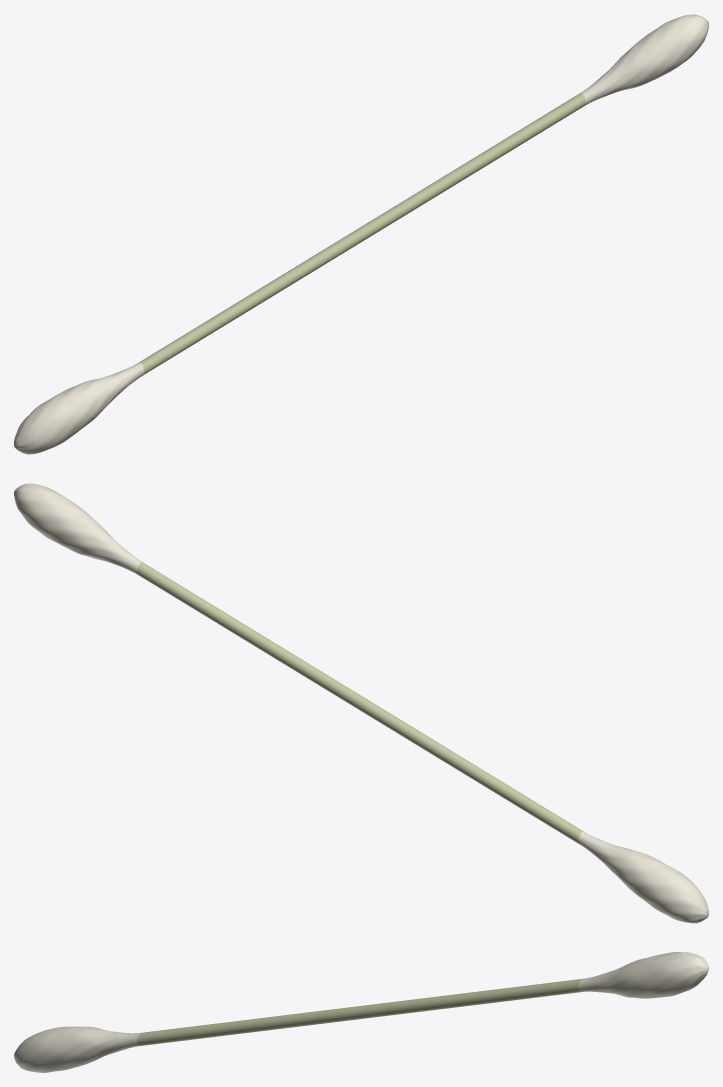
Rendered from A-NEW-20261027-COTTON-SWAB-001_LOD0_R1.glb.
3 views of the same model, one above another, from view 1: azimuth 30°, elevation 25°; view 2: azimuth 150°, elevation 25°; view 3: azimuth 330°, elevation 25° (orthographic).
Parts seen in each view (by area): view 1: continuous original swab stem and two tapered cotton tips; view 2: continuous original swab stem and two tapered cotton tips; view 3: continuous original swab stem and two tapered cotton tips.
Boxes of the visible parts, left/top/right/bottom form: continuous original swab stem and two tapered cotton tips: left=14, top=14, right=708, bottom=454; continuous original swab stem and two tapered cotton tips: left=14, top=483, right=708, bottom=923; continuous original swab stem and two tapered cotton tips: left=14, top=952, right=708, bottom=1072.
Size of the model in its own units: 0.0756 by 0.0286 by 0.00436.
